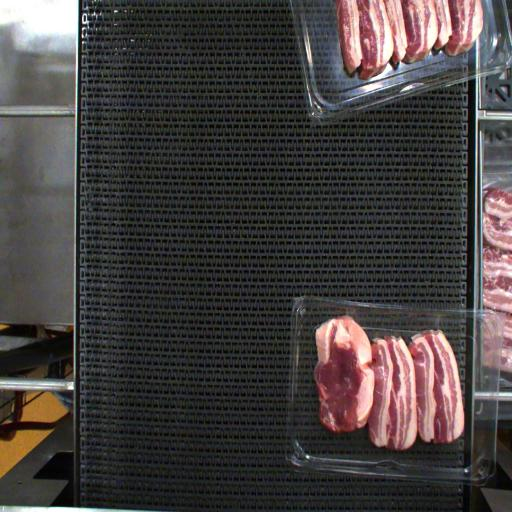packaging-error: (331, 297, 364, 323), (430, 312, 444, 333)
